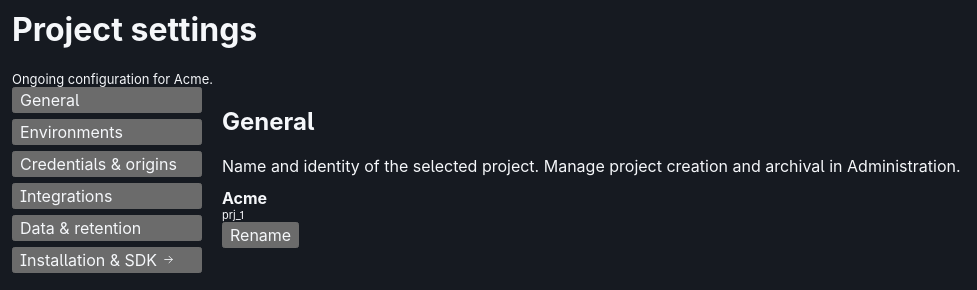
Test case: SetupScreen › keeps environment creation available before the first environment exists
Click the button "Environments" at (107, 132), box [12,119,202,145]
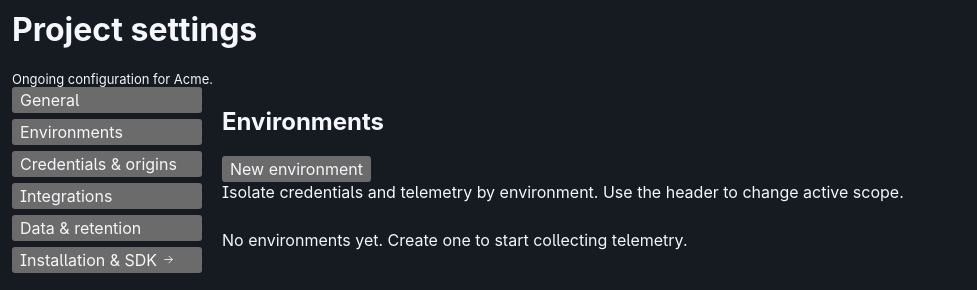
Now the button "New environment" is shown, box [222,156,371,182]
